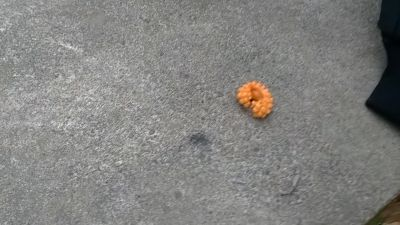eggs: (236, 83, 273, 118)
